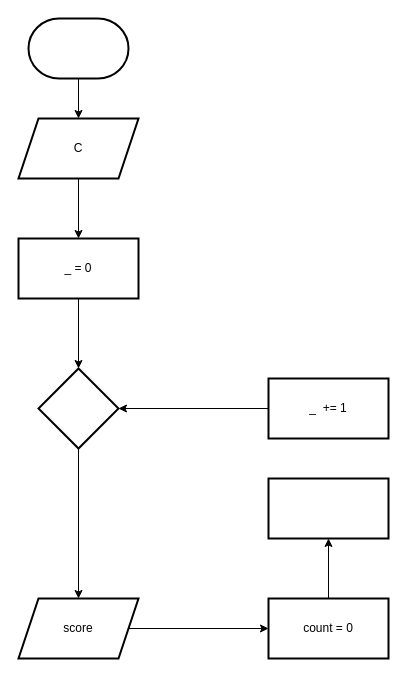
This 406x676 diagram has some shape labels left out. The box of each missing label's shape, as (x1, y1, x2, y2) in pixels:
i < C: (37, 367, 119, 449)
start: (27, 17, 129, 79)
